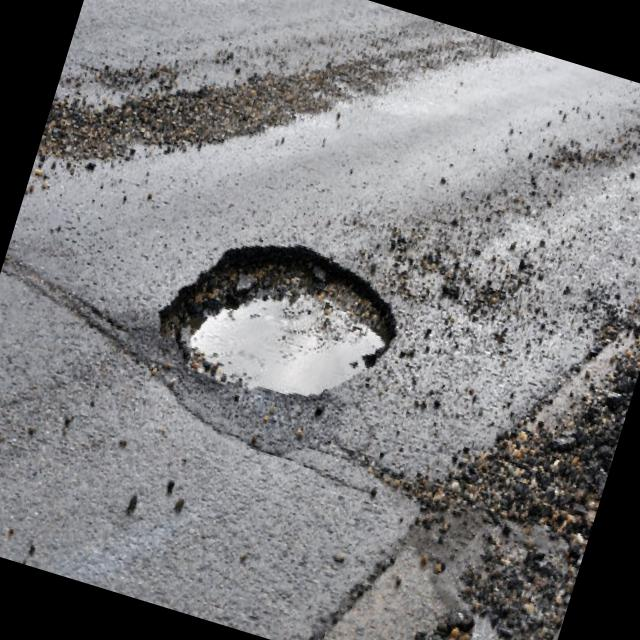Potholes: (137, 190, 427, 462)
